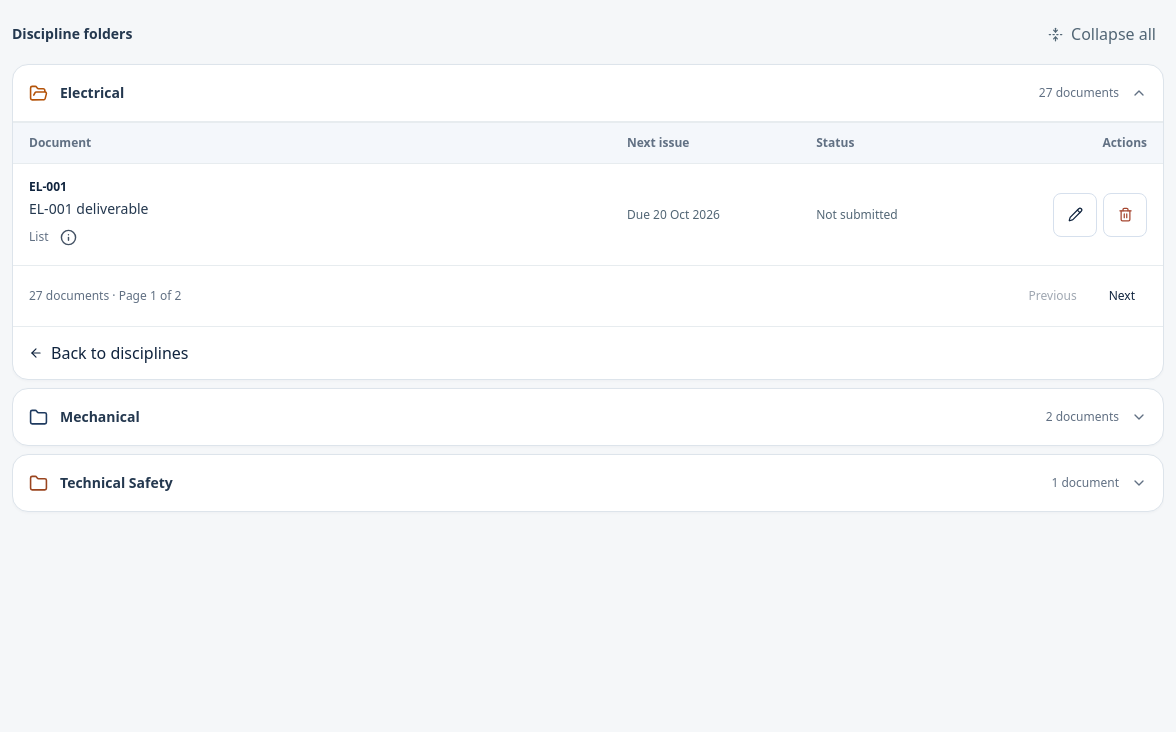
Test case: supports collapsing all disciplines and reloads current records after reopening
Click the button with aria-label "Collapse all disciplines" at (1102, 34), box [1040, 12, 1164, 56]
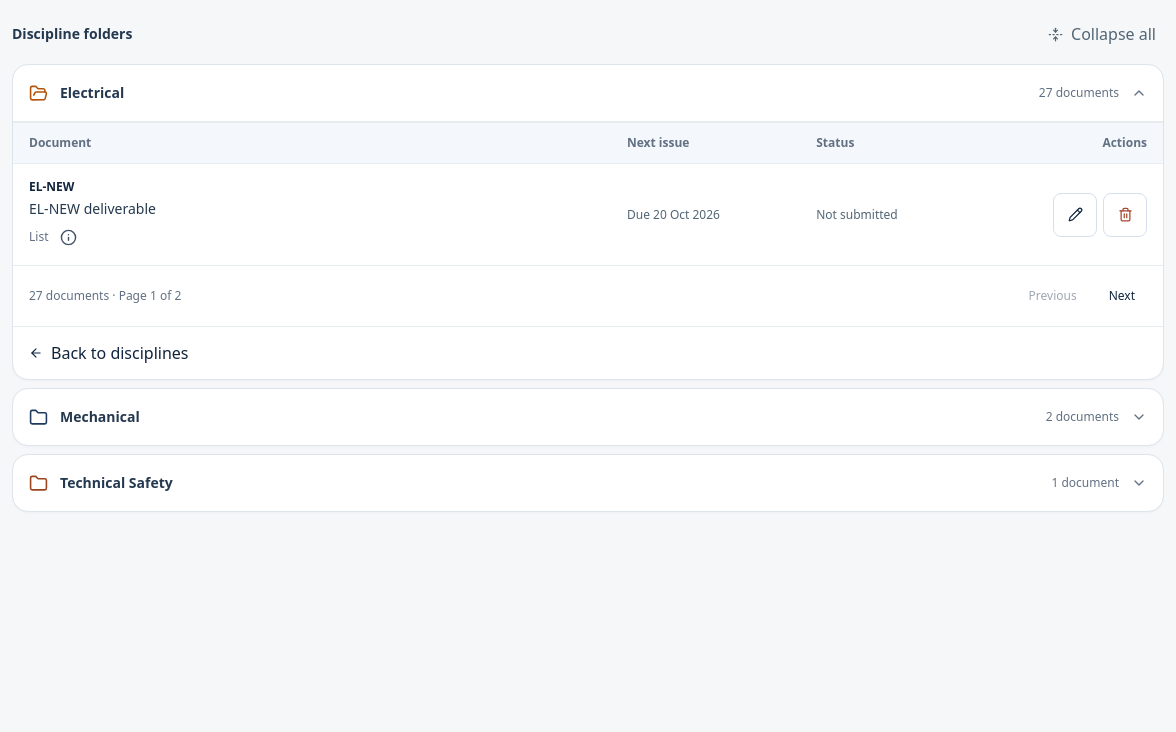
Expected: no links "EL-001" are shown
